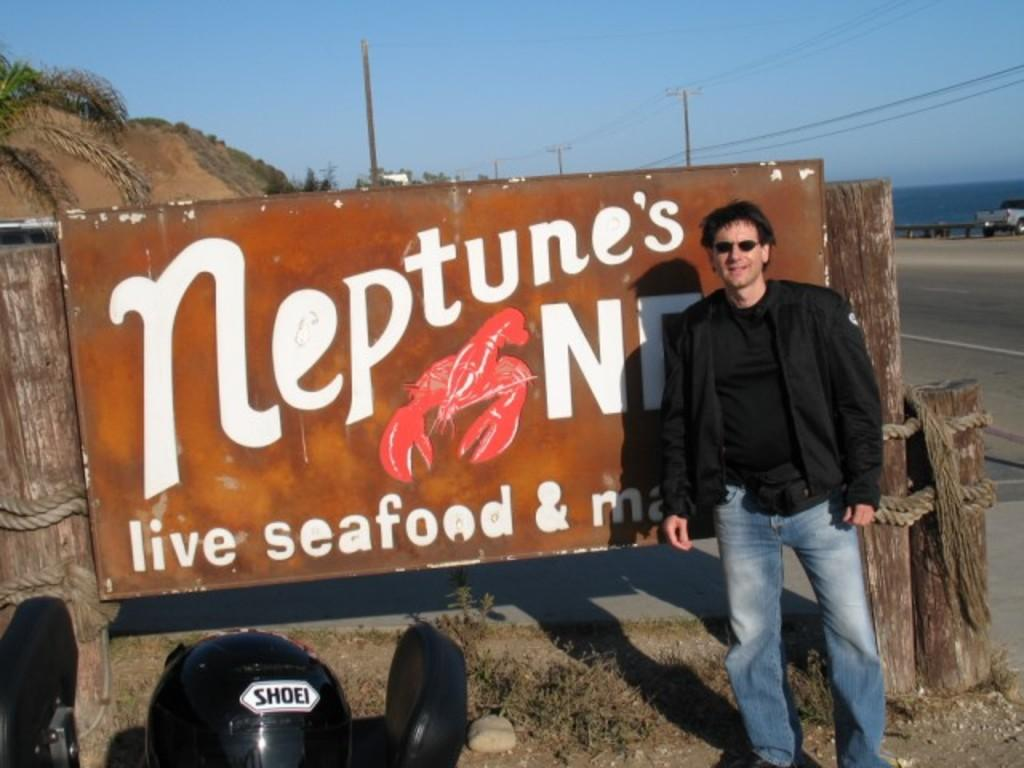helmet: (144, 631, 354, 768)
nohelmet: (701, 200, 776, 293)
